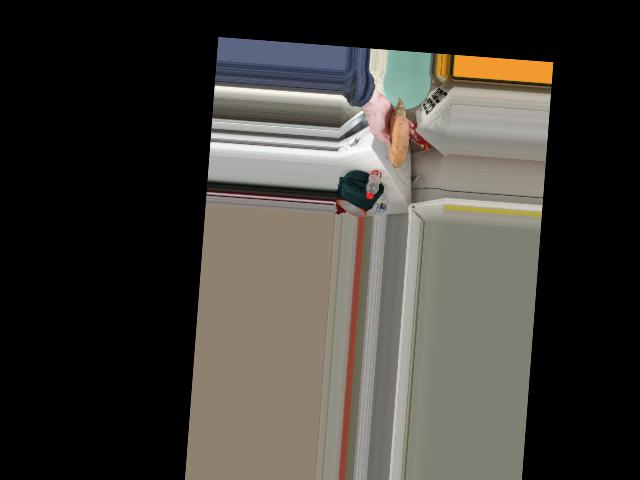sweet_potato: (383, 110, 408, 160)
